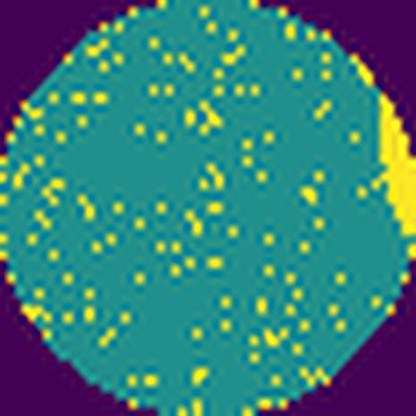Edge-Loc: (373, 82, 416, 260)
